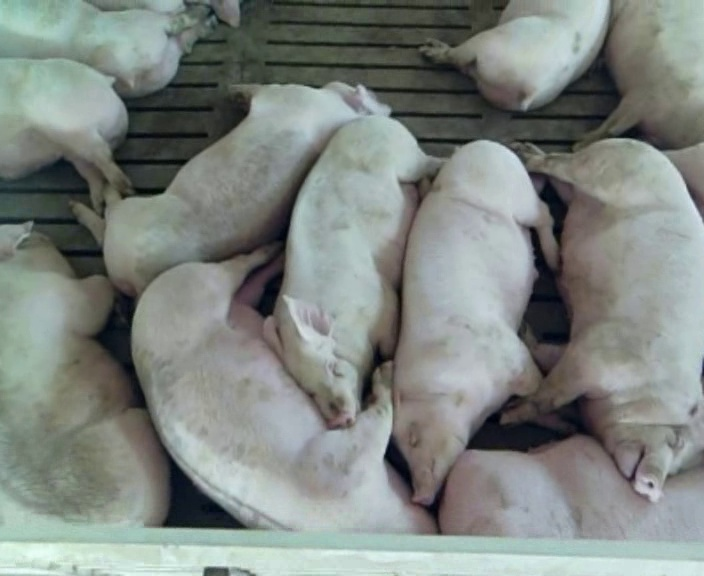pig: (132, 245, 434, 531), (502, 139, 703, 500), (72, 82, 389, 295), (265, 116, 447, 427), (439, 435, 703, 540), (420, 1, 609, 110), (0, 2, 215, 96), (575, 2, 703, 148)
